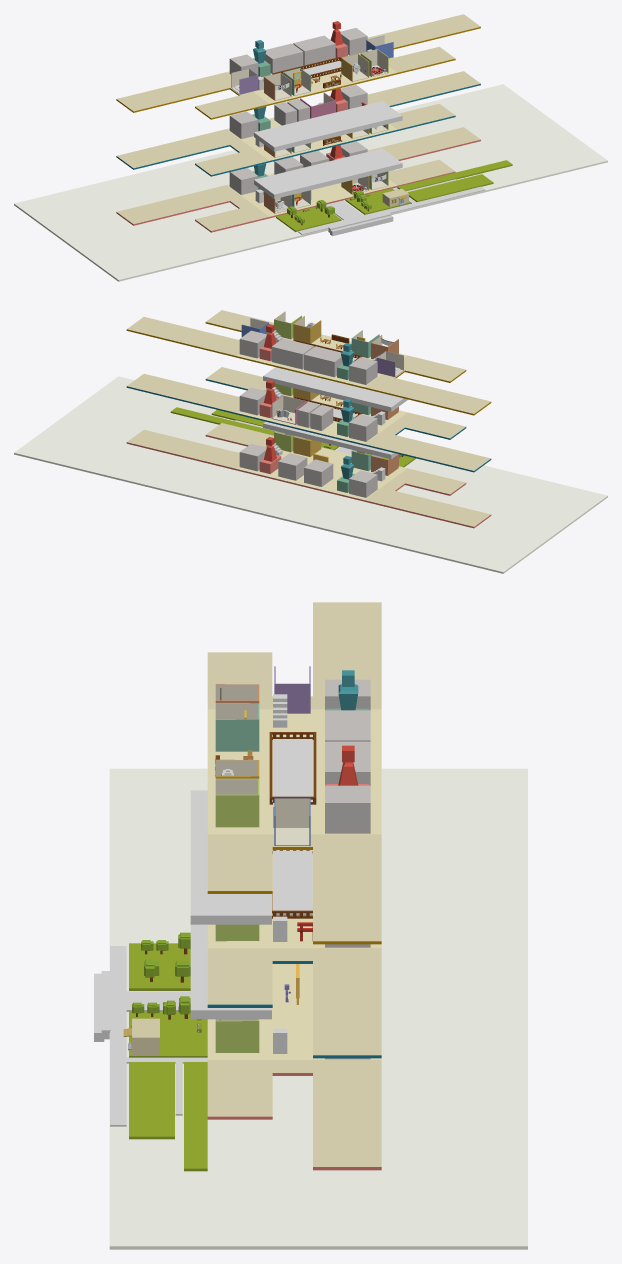
The model's file is floor_souzou3.glb.
3 views of the same model, one above another, from view 1: azimuth 30°, elevation 25°; view 2: azimuth 150°, elevation 25°; view 3: azimuth 270°, elevation 25° (orthographic). The views are drawn at different scales.
Parts seen in each view (by area): view 1: invisible6, F2, F1, F3, invisible1, invisible3, 3_other, 2_other, 1_other, road, niwa4, niwa1 (+14 smaller); view 2: invisible6, F1, F2, F3, 3_other, 1_other, 2_other, invisible3, invisible1, 2_5, niwa3, 3_5 (+12 smaller); view 3: invisible6, F3, F1, F2, 3_other, road, invisible3, niwa4, niwa3, invisible2, invisible1, invisible5 (+10 smaller).
Boxes of the visible parts, box(x1,y1,x2,y2) form: invisible6: box(14, 84, 607, 281); F2: box(116, 71, 480, 176); F1: box(116, 127, 480, 232); F3: box(116, 14, 480, 119); invisible1: box(254, 148, 402, 198); invisible3: box(254, 101, 402, 151); 3_other: box(229, 28, 367, 83); 2_other: box(229, 85, 367, 138); 1_other: box(229, 141, 367, 194); road: box(298, 179, 485, 234); niwa4: box(407, 174, 493, 201); niwa1: box(276, 207, 341, 231); invisible6: box(14, 376, 607, 573); F1: box(126, 423, 491, 528); F2: box(126, 367, 491, 472); F3: box(126, 310, 491, 415); 3_other: box(239, 330, 377, 384); 1_other: box(239, 443, 377, 497); 2_other: box(239, 387, 377, 441); invisible3: box(263, 367, 407, 411); invisible1: box(263, 421, 398, 459); 2_5: box(271, 395, 307, 424); niwa3: box(170, 407, 274, 435); 3_5: box(376, 351, 403, 376); invisible6: box(109, 768, 527, 1249); F3: box(207, 602, 381, 944); F1: box(207, 964, 381, 1170); F2: box(207, 850, 381, 1058); 3_other: box(243, 679, 370, 833); road: box(110, 946, 207, 1126); invisible3: box(190, 790, 271, 924); niwa4: box(129, 1062, 174, 1139); niwa3: box(184, 1062, 207, 1171); invisible2: box(273, 850, 312, 915); invisible1: box(190, 924, 271, 1019); invisible5: box(273, 739, 312, 801).
Bounding box in the file's own units: 224 × 65.84 × 86.05.
